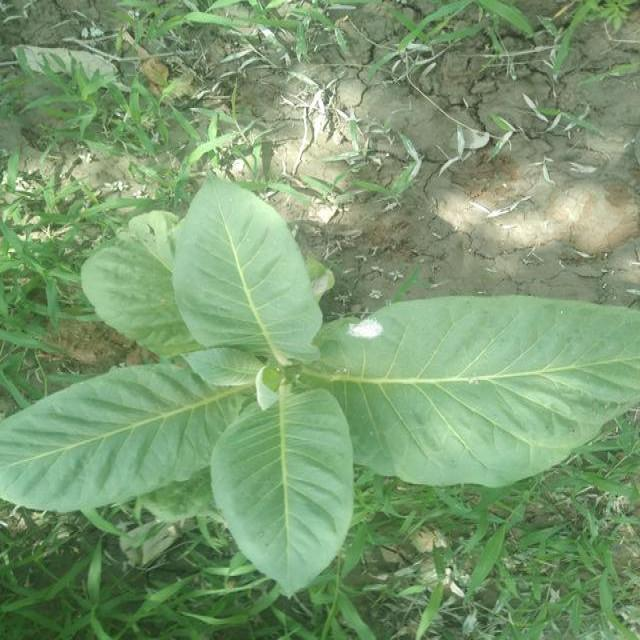crop: (10, 196, 632, 584)
